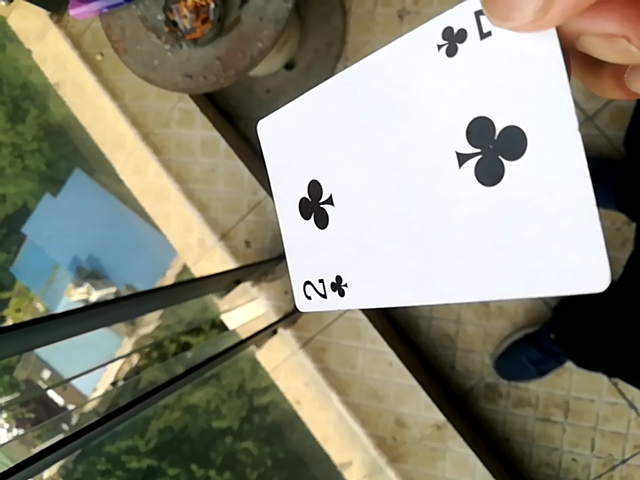mh 2: (257, 0, 604, 322)
